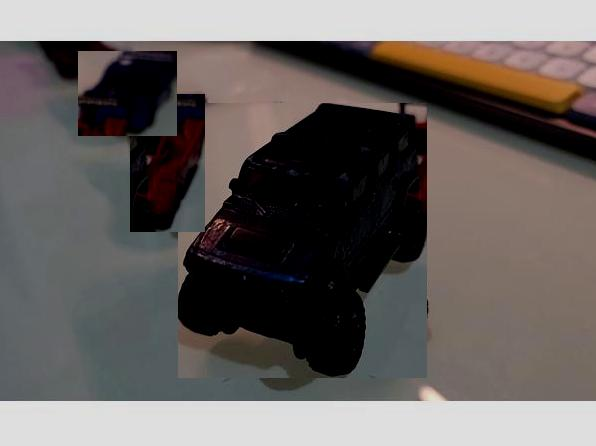toy-car: (178, 103, 427, 378), (129, 94, 204, 232), (78, 52, 177, 137)
